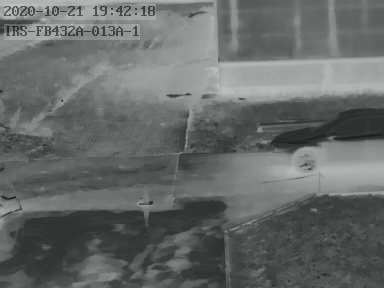vehicle: (269, 106, 384, 174)
